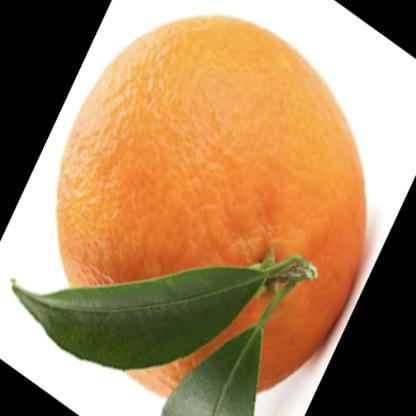fresh: (55, 15, 365, 414)
